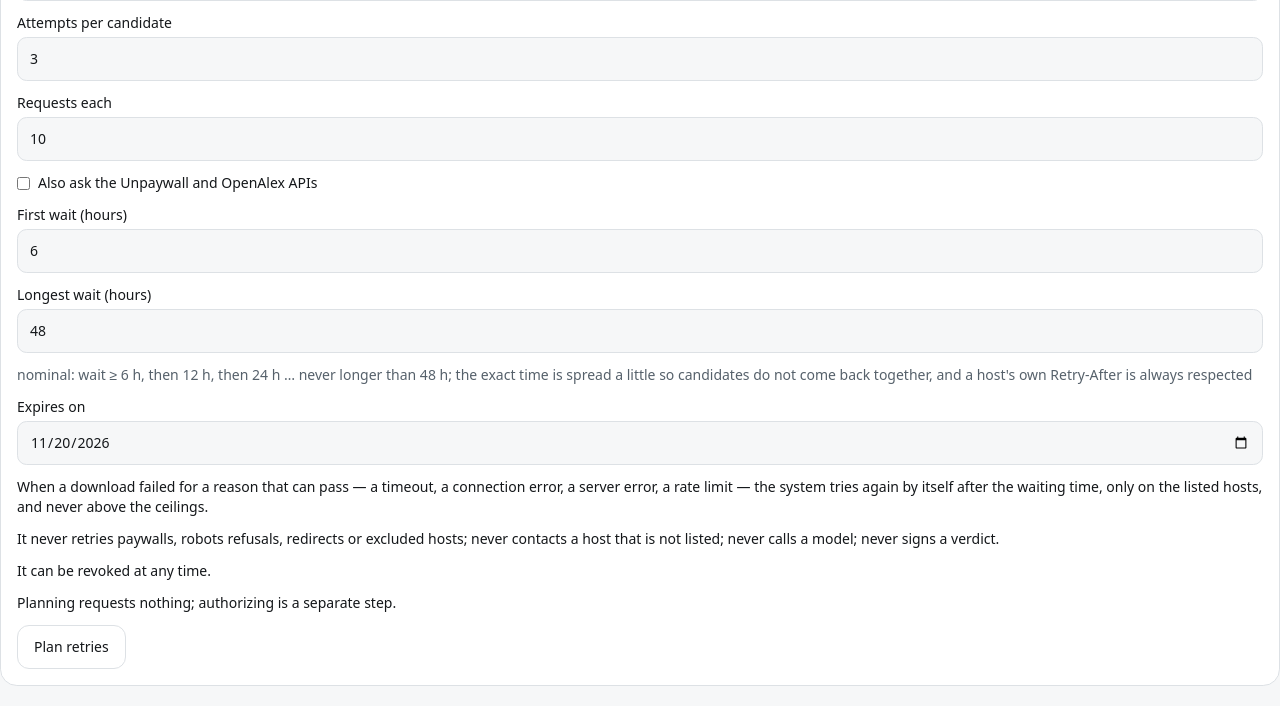
it: retry policy plan form › shows the server's refusal verbatim and does not retry
(page scrolled)
What coordinates should you click on to do the following:
click the button "Plan retries"
I would click on:
 (71, 647)
Its box is [17,625,126,669].
(page scrolled)
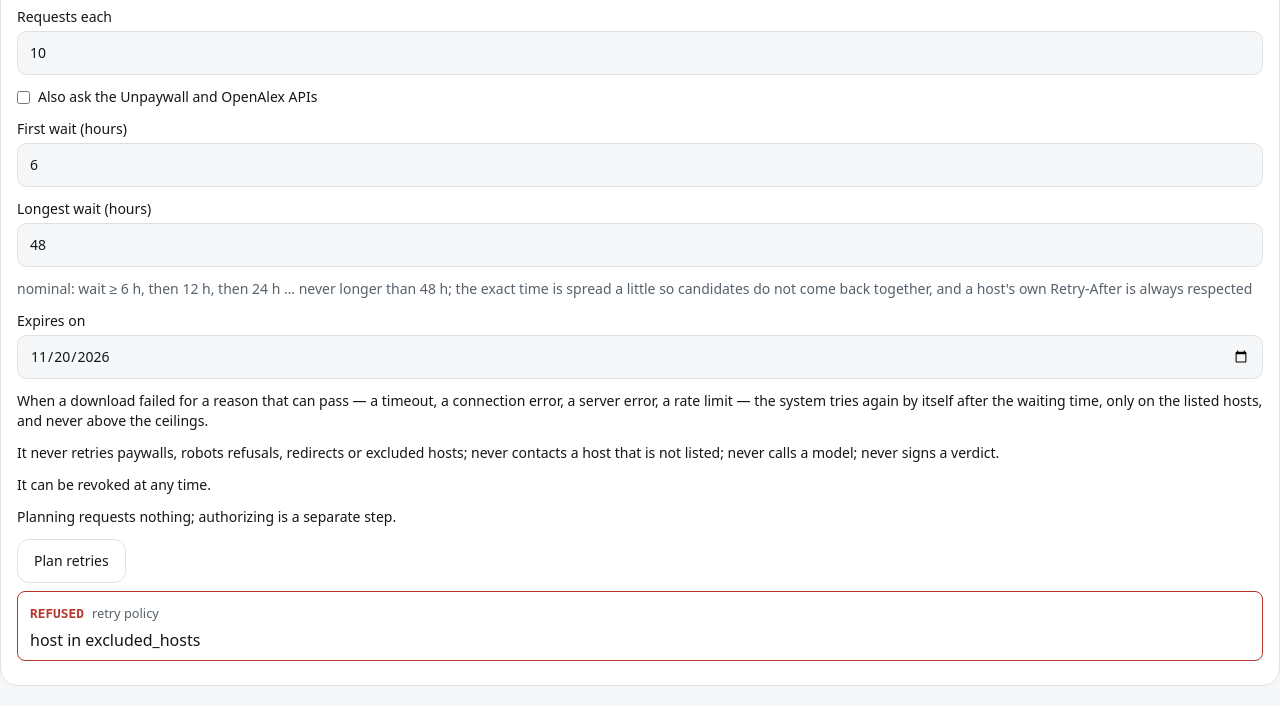
Check: the text "host in excluded_hosts" is shown, box [30,629,200,651]
